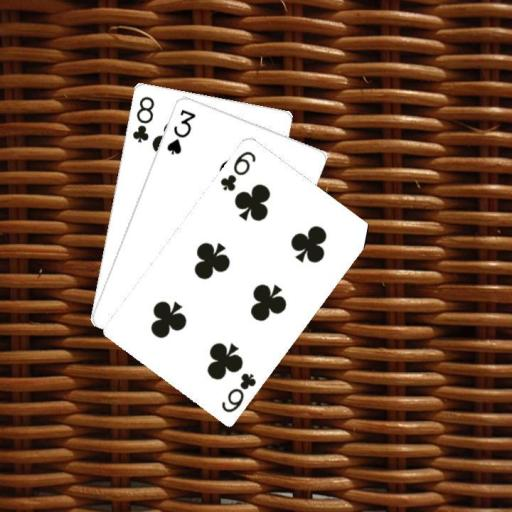3S: (163, 105, 197, 156)
6C: (217, 147, 257, 193), (218, 369, 258, 414)
8C: (129, 93, 156, 144)
